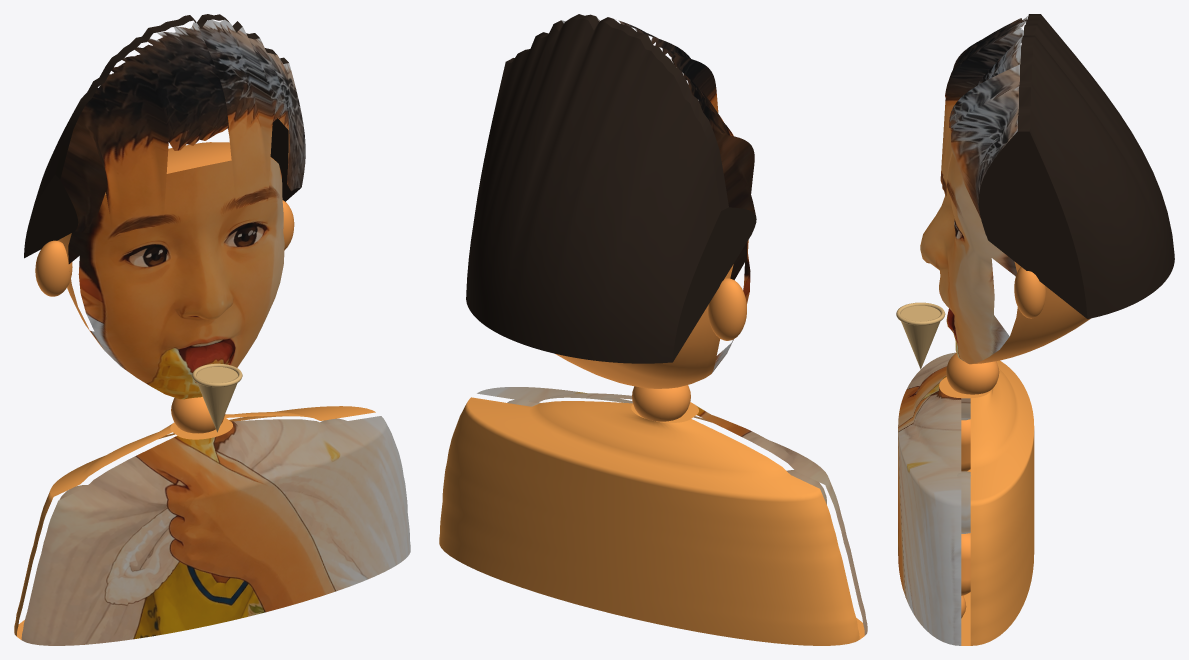
The model's file is portrait.glb.
The picture shows the model from 3 angles, left to right: view 1: azimuth 30°, elevation 25°; view 2: azimuth 150°, elevation 25°; view 3: azimuth 270°, elevation 25°; orthographic projection. The views are drawn at different scales.
Parts seen in each view (by area): view 1: figure-surface-5, figure-surface-1, figure-surface-8, figure-surface-6, figure-surface-2, figure-surface-9, figure-surface-0, figure-surface-7; view 2: figure-surface-2, figure-surface-7, figure-surface-8, figure-surface-6, figure-surface-5, figure-surface-1, figure-surface-0; view 3: figure-surface-7, figure-surface-5, figure-surface-1, figure-surface-2, figure-surface-8, figure-surface-6, figure-surface-0, figure-surface-9, figure-surface-4.
Boxes of the visible parts, <box> form: figure-surface-5: <box>60,19,305,399</box>; figure-surface-1: <box>21,416,410,645</box>; figure-surface-8: <box>24,14,300,258</box>; figure-surface-6: <box>35,142,294,349</box>; figure-surface-2: <box>14,406,375,636</box>; figure-surface-9: <box>192,363,242,432</box>; figure-surface-0: <box>171,396,225,433</box>; figure-surface-7: <box>29,113,72,220</box>; figure-surface-2: <box>439,397,859,645</box>; figure-surface-7: <box>466,18,720,363</box>; figure-surface-8: <box>506,14,756,361</box>; figure-surface-6: <box>555,264,746,388</box>; figure-surface-5: <box>547,17,755,372</box>; figure-surface-1: <box>477,387,867,635</box>; figure-surface-0: <box>632,385,690,421</box>; figure-surface-7: <box>1029,14,1174,318</box>; figure-surface-5: <box>920,16,1027,364</box>; figure-surface-1: <box>898,352,970,645</box>; figure-surface-2: <box>970,360,1034,645</box>; figure-surface-8: <box>978,14,1087,318</box>; figure-surface-6: <box>970,261,1090,364</box>; figure-surface-0: <box>946,352,999,618</box>; figure-surface-9: <box>896,302,945,369</box>; figure-surface-4: <box>961,469,970,645</box>.
Size of the model in its own units: 2.24 by 3.09 by 1.44.
Materials: 10 (2 with a texture image).
